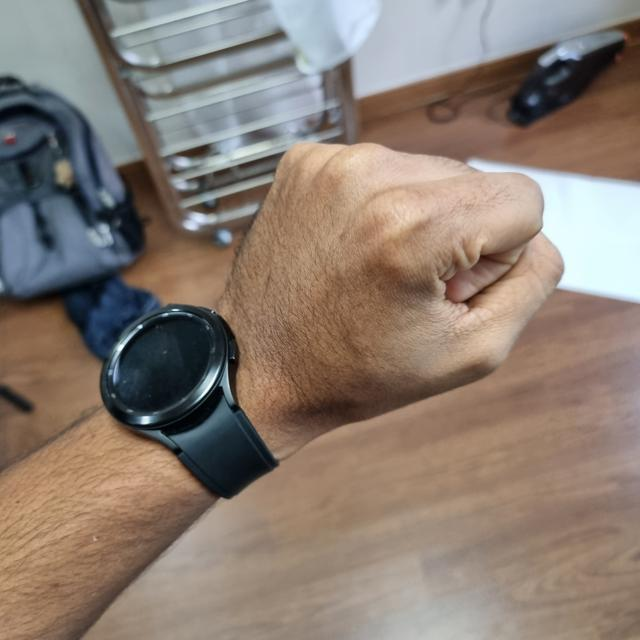Rock: (222, 148, 560, 524)
